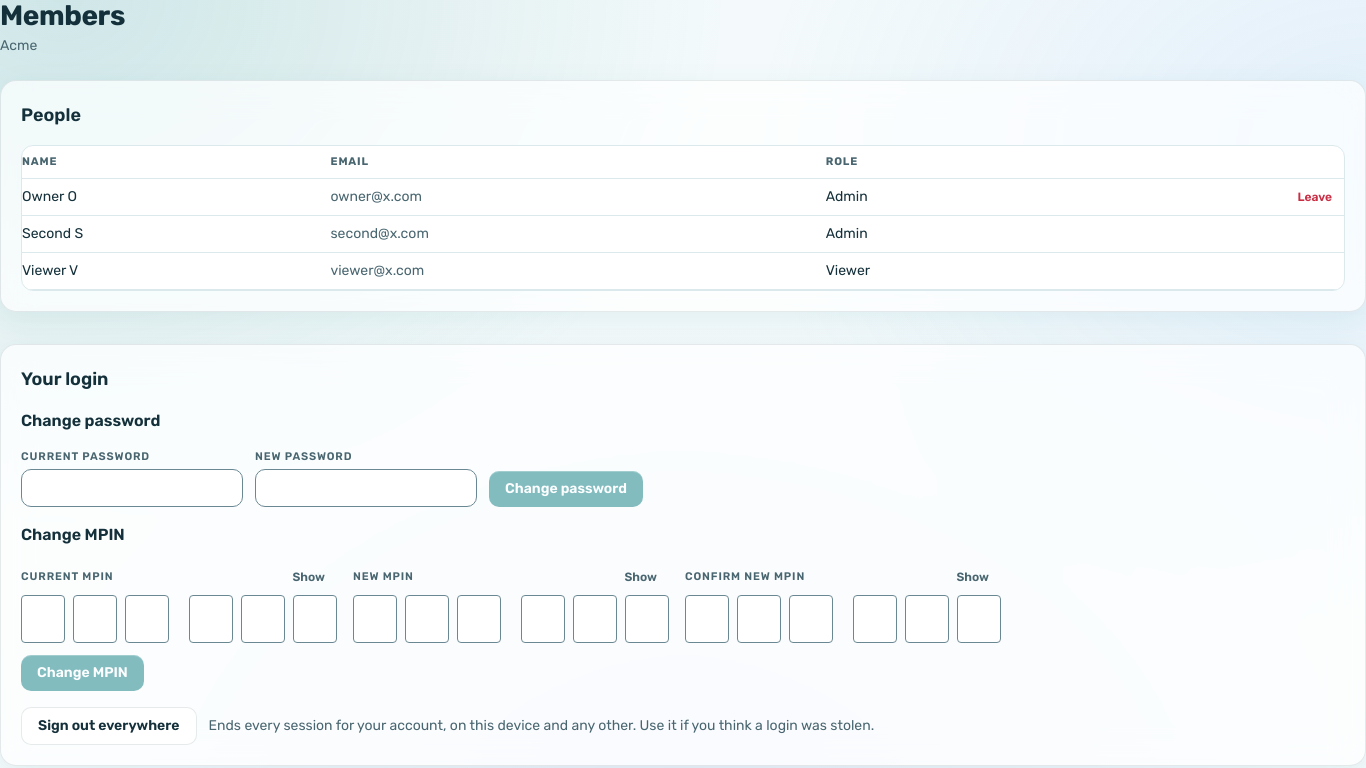
Test: every member can change their own password with the MPIN, and sees their sign-ins
In the password field labelled "Current password": (132, 488) [21,469,243,507], type "old-password-x"
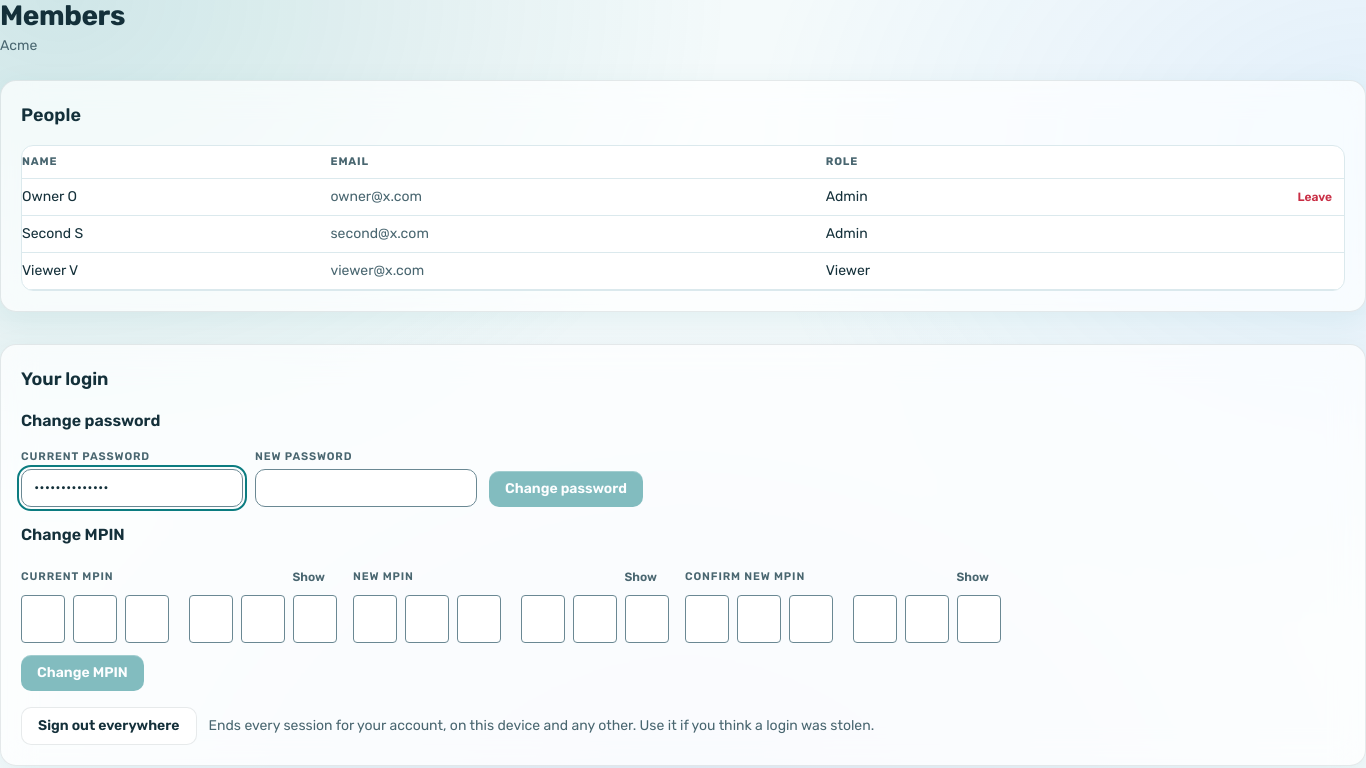
In the password field labelled "New password": (366, 488) [255,469,477,507], type "new-password-y"
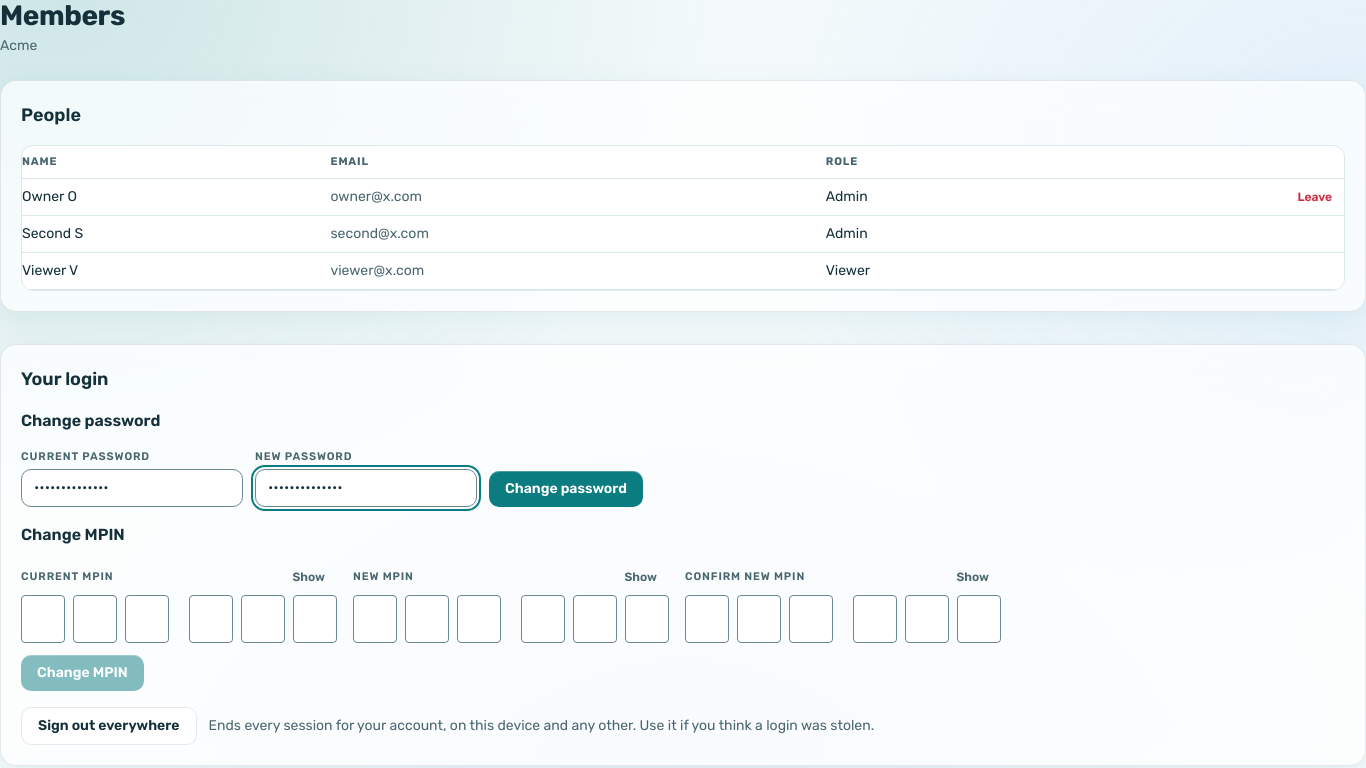
Click the button "Change password": (566, 489) [489,471,643,507]
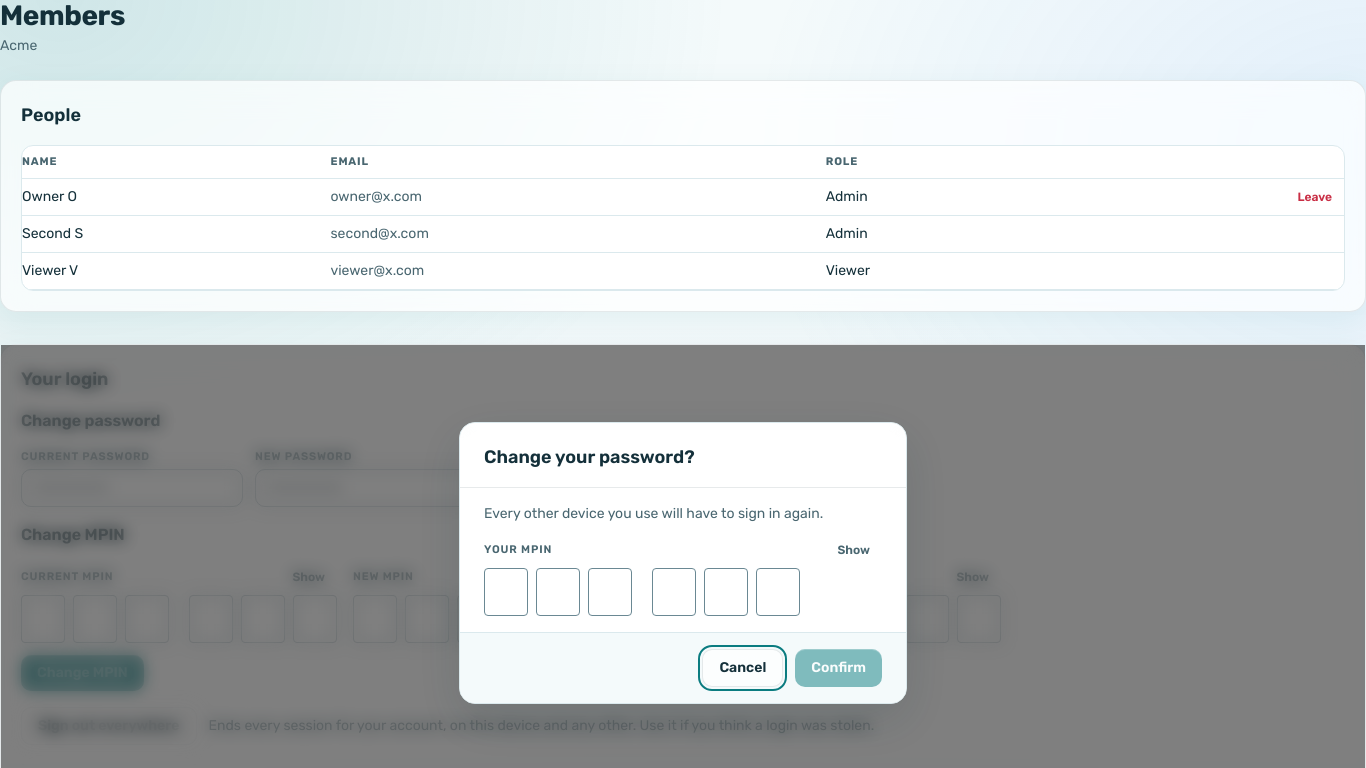
Click the password field named "Your MPIN digit 1 of 6": (506, 592) [484,568,528,616]
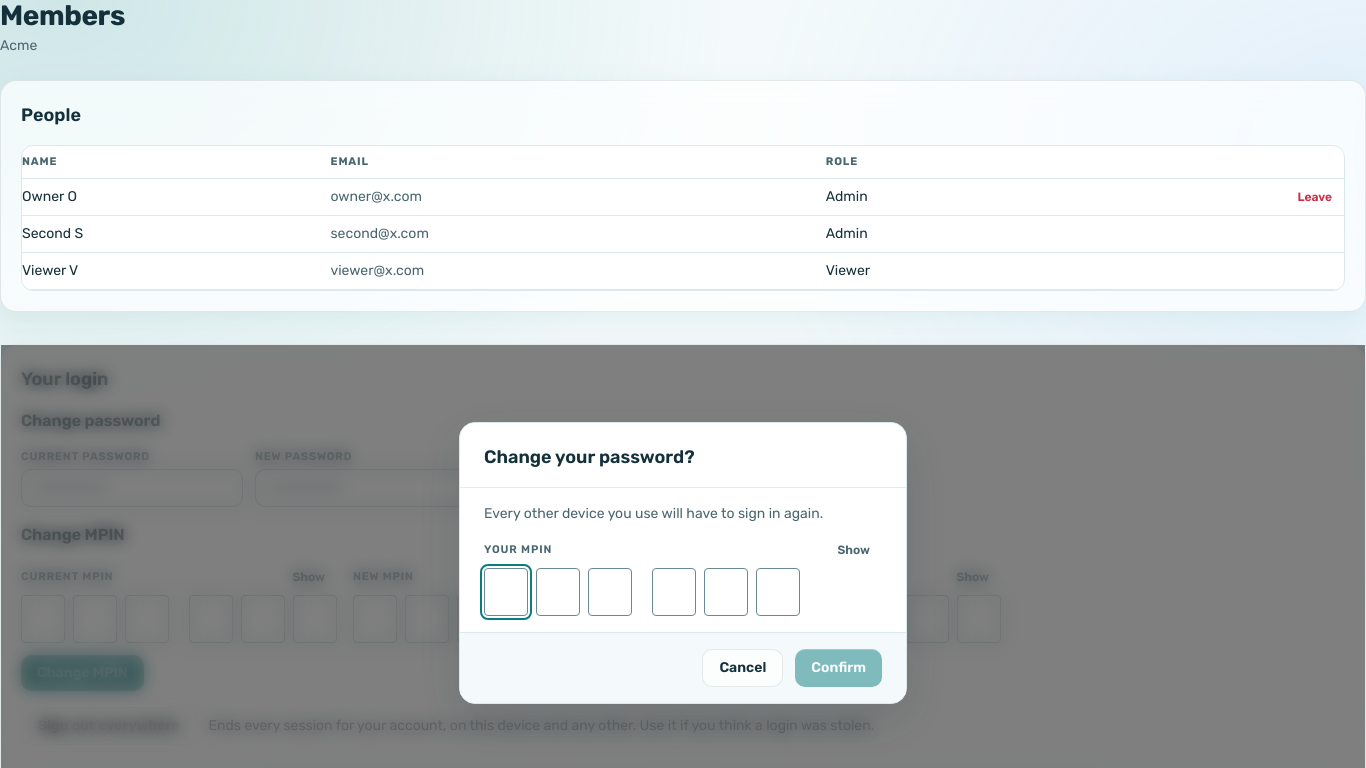
Type keys "123456"
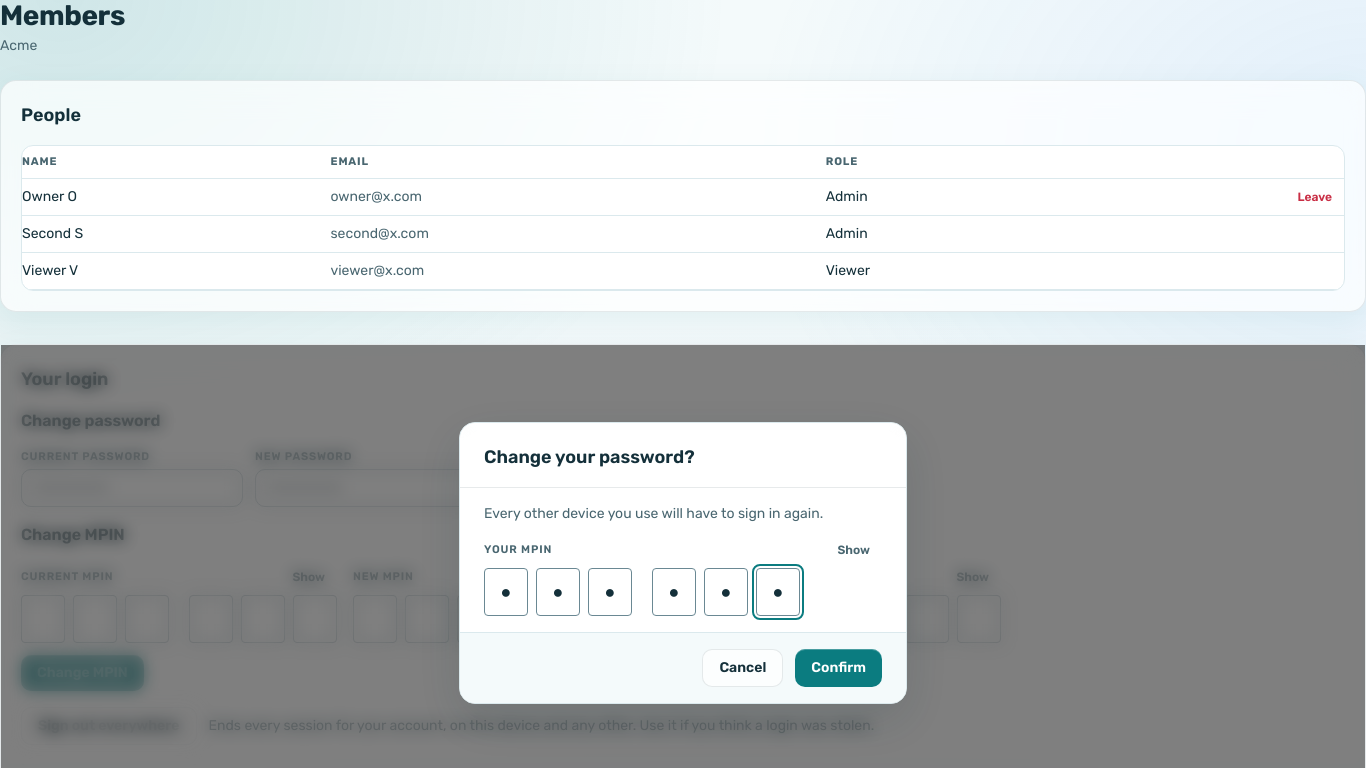
Click the button "Confirm": (839, 668) [795,649,882,687]
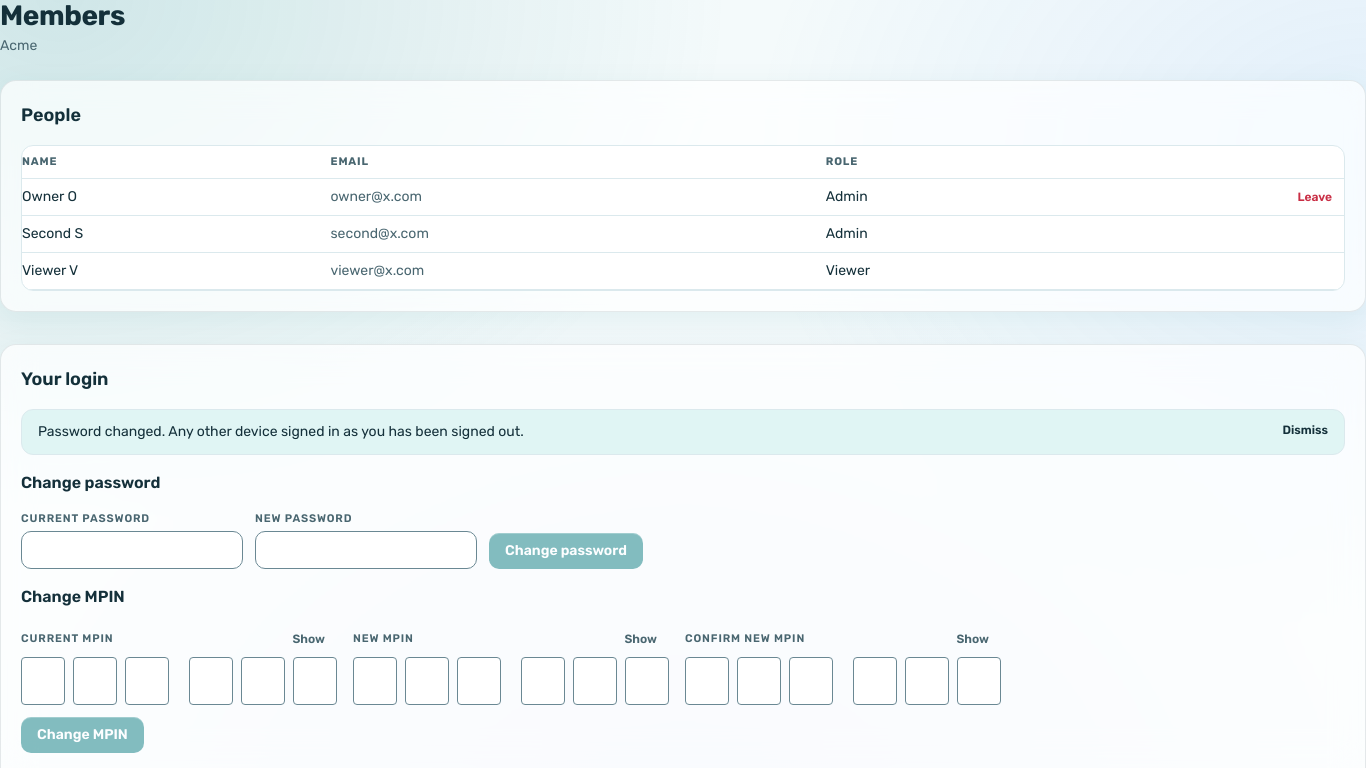
Check: the text "signed out" is shown, box [38,423,524,440]
